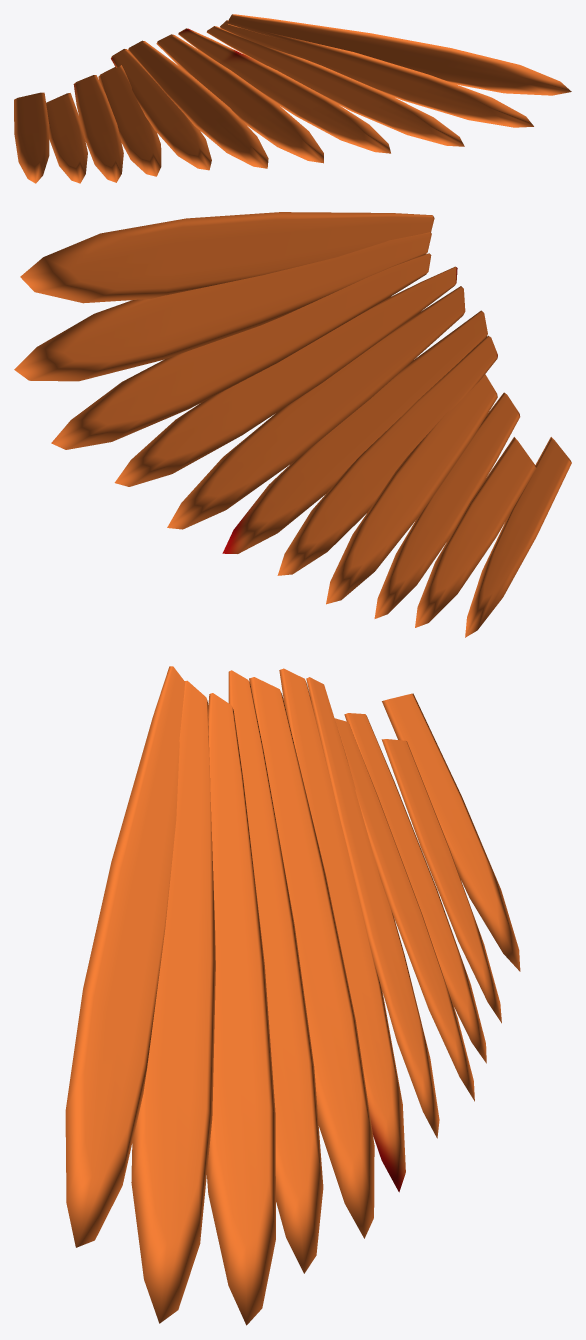
Rendered from alaIzq_pajaro_tel.obj.
3 views of the same model, one above another, from view 1: azimuth 30°, elevation 25°; view 2: azimuth 150°, elevation 25°; view 3: azimuth 270°, elevation 25° (orthographic). The views are drawn at different scales.
Parts seen in each view (by area): view 1: polySurface1; view 2: polySurface1; view 3: polySurface1.
Part boxes in pixels (left/top/right/bottom): polySurface1: left=14, top=14, right=571, bottom=183; polySurface1: left=14, top=212, right=571, bottom=637; polySurface1: left=65, top=666, right=520, bottom=1325.
Bounding box in the file's own units: 11.37 × 5.02 × 4.73.
1 material, 1 textured.
